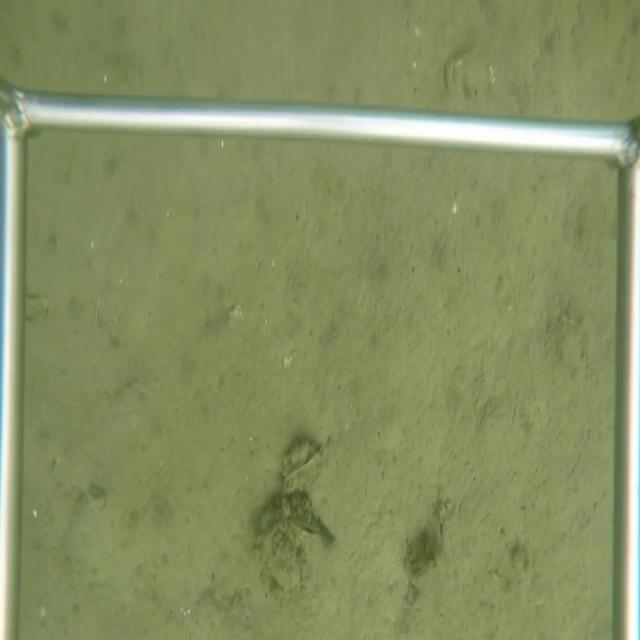Oyster-Closed: (284, 515, 336, 550)
